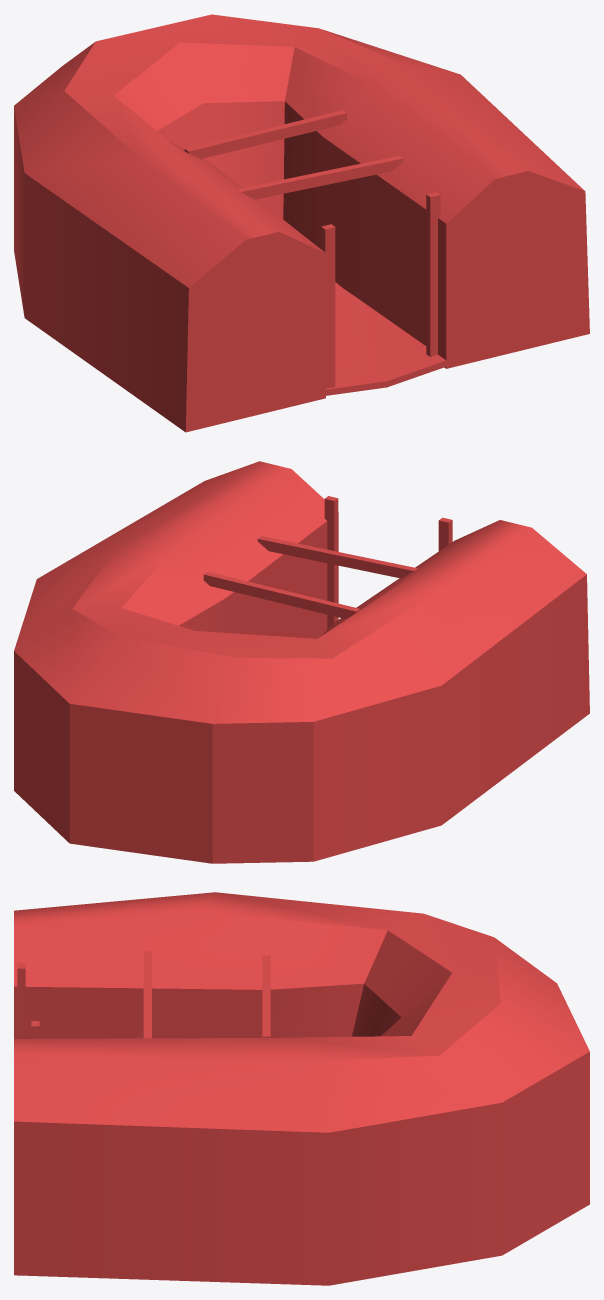
Rendered from Ground_End_Wood_COL.fbx.
The picture shows the model from 3 angles, top to bottom: view 1: azimuth 30°, elevation 25°; view 2: azimuth 150°, elevation 25°; view 3: azimuth 270°, elevation 25°; orthographic projection. The views are drawn at different scales.
Parts seen in each view (by area): view 1: Ground_End_Wood_COL; view 2: Ground_End_Wood_COL; view 3: Ground_End_Wood_COL.
Boxes of the visible parts, x1,y1,x2,y2 form: Ground_End_Wood_COL: [14, 14, 589, 432]; Ground_End_Wood_COL: [14, 461, 589, 863]; Ground_End_Wood_COL: [14, 892, 589, 1285].
Size of the model in its own units: 659 by 290 by 729.
